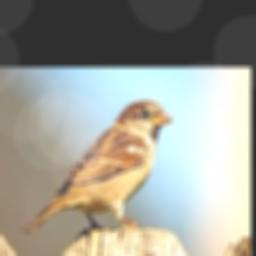Sparrow: (21, 100, 174, 233)
